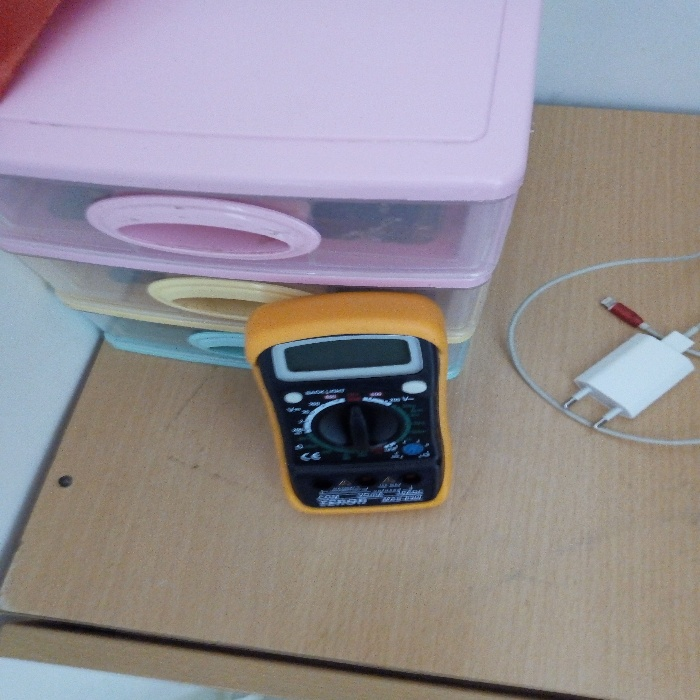multimetre: (232, 262, 469, 531)
